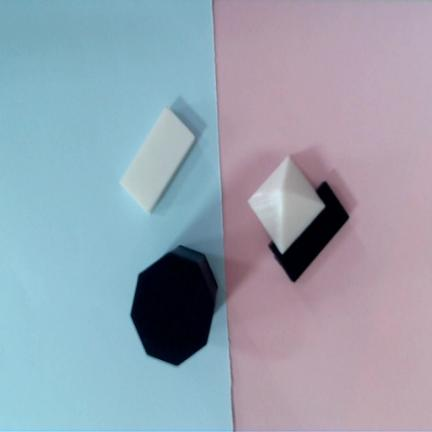Paralelepipedo: (269, 182, 348, 281), (120, 108, 194, 212)
Piramide: (248, 156, 325, 253)
Prisma_hexagonal: (131, 246, 217, 364)
